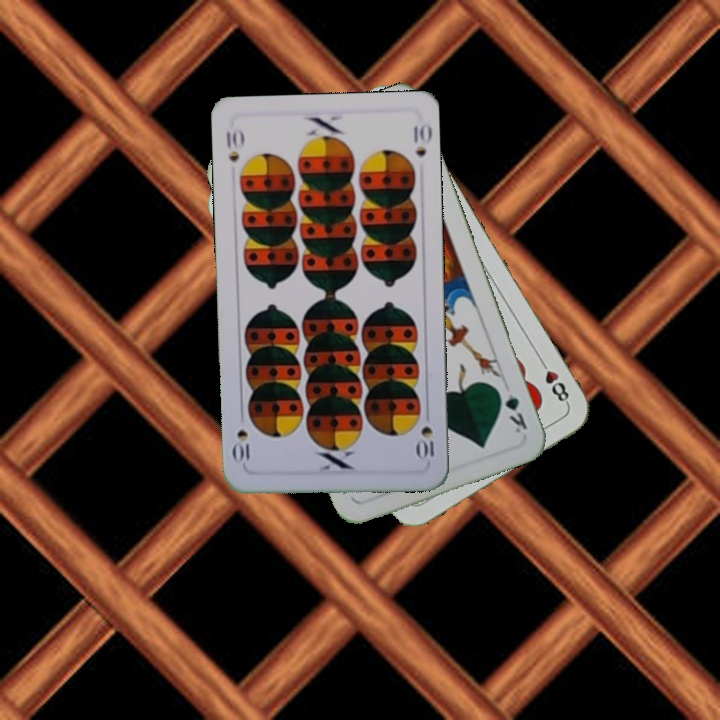GK: (493, 383, 530, 436)
H8: (535, 355, 572, 408)
S10: (414, 406, 437, 463), (222, 125, 246, 165)
